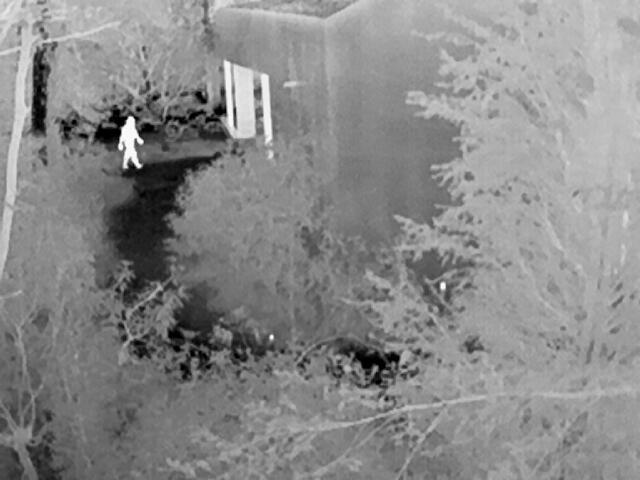person: (116, 114, 143, 168)
